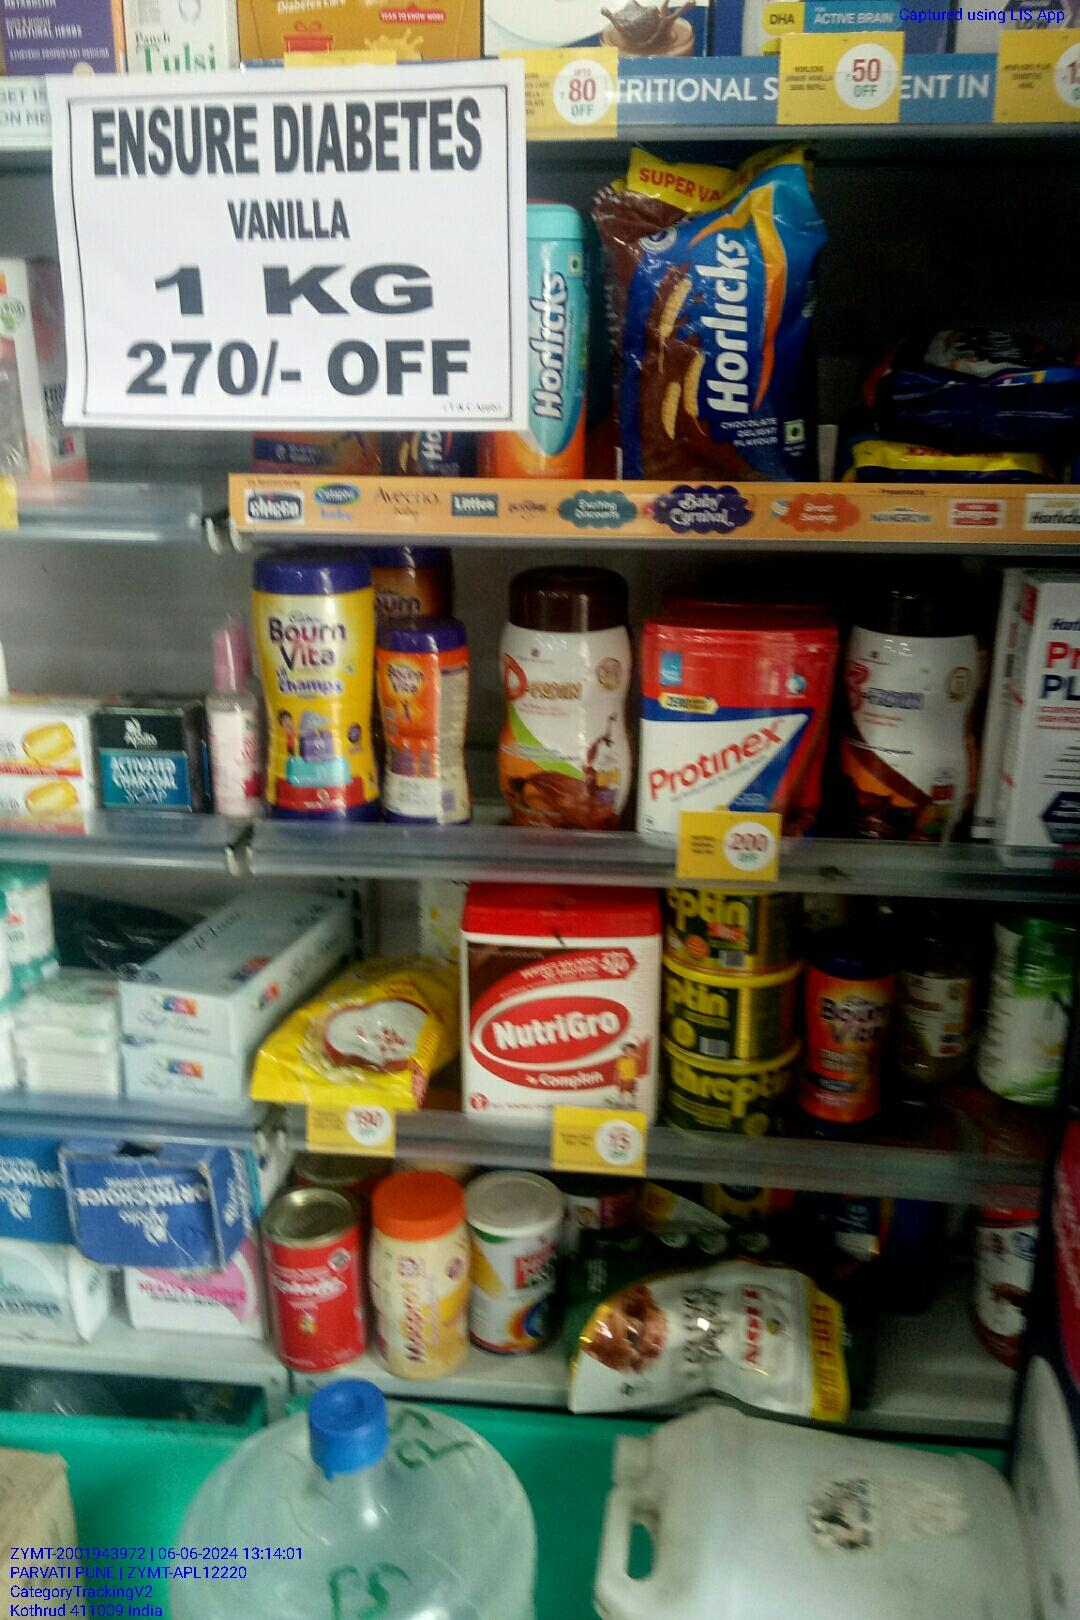BOURN_VITA_200_G_JAR: (378, 617, 436, 834)
BOURN_VITA_CHAMPS_500_G_JAR: (253, 552, 374, 833)
PROTINEX_CHOCOLATE_400_G_JAR: (639, 620, 829, 851)
